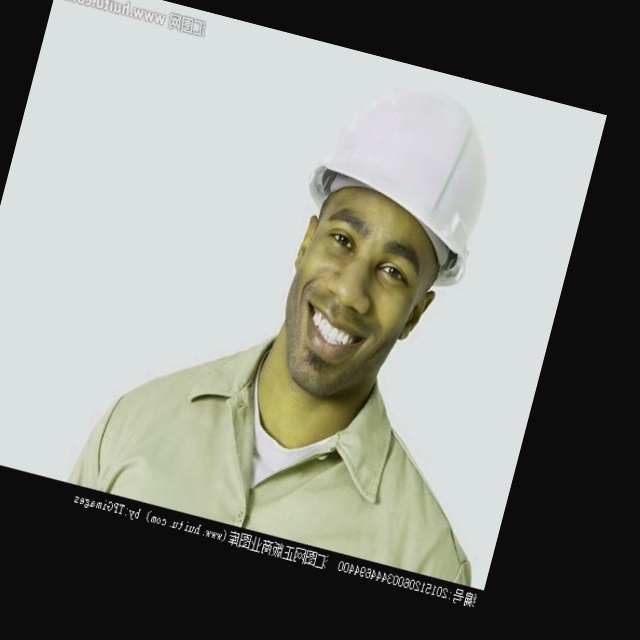Con_Casco: (261, 66, 511, 416)
